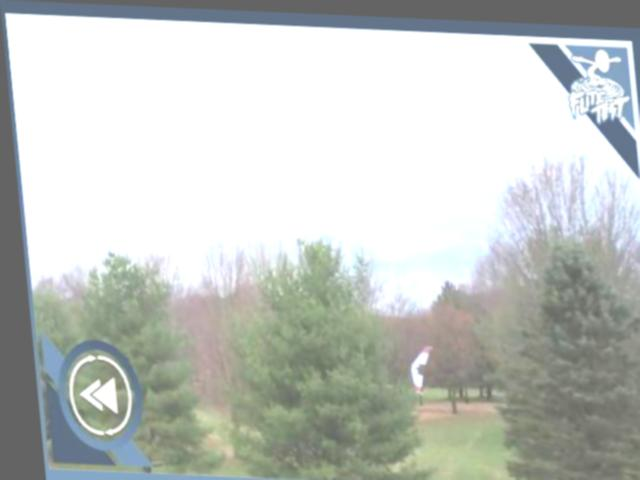flying wing: (401, 339, 429, 395)
